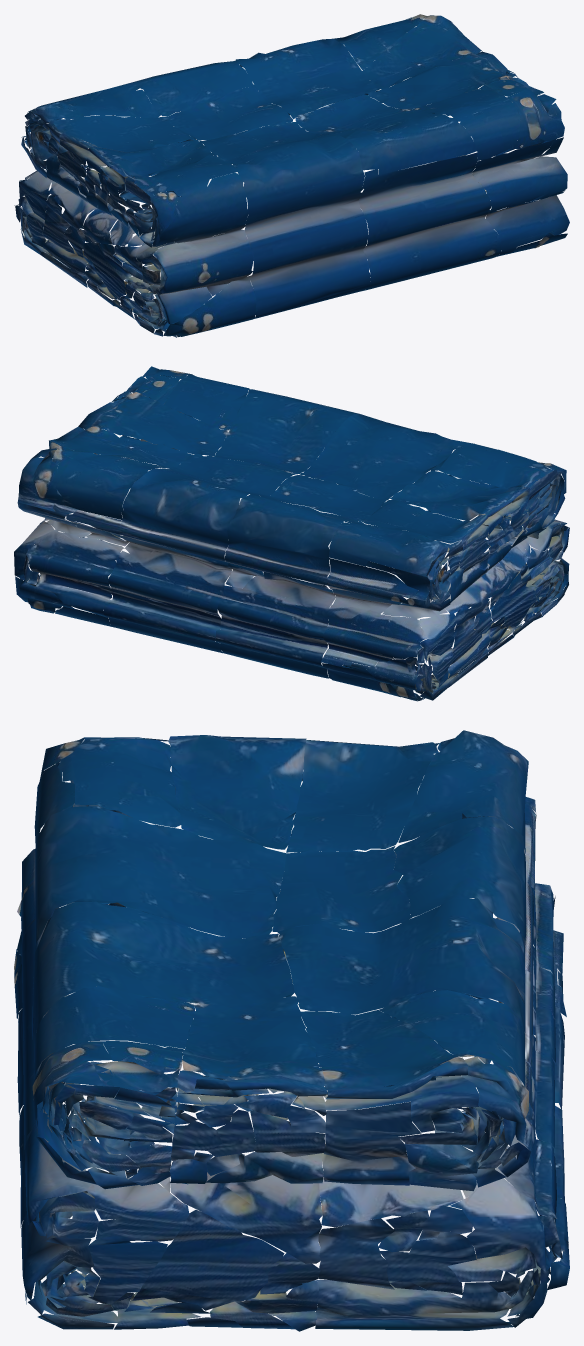
The model's file is tarp.glb.
The picture shows the model from 3 angles, top to bottom: view 1: azimuth 30°, elevation 25°; view 2: azimuth 150°, elevation 25°; view 3: azimuth 270°, elevation 25°; orthographic projection. The views are drawn at different scales.
Parts seen in each view (by area): view 1: tripo_node_728b56d6-7fc9-49f2-a562-e074abbdb82b; view 2: tripo_node_728b56d6-7fc9-49f2-a562-e074abbdb82b; view 3: tripo_node_728b56d6-7fc9-49f2-a562-e074abbdb82b.
Boxes of the visible parts, x1=… form: tripo_node_728b56d6-7fc9-49f2-a562-e074abbdb82b: x1=14, y1=14, x2=569, y2=337; tripo_node_728b56d6-7fc9-49f2-a562-e074abbdb82b: x1=14, y1=366, x2=569, y2=701; tripo_node_728b56d6-7fc9-49f2-a562-e074abbdb82b: x1=14, y1=730, x2=569, y2=1331.
Size of the model in its own units: 1 by 0.3572 by 0.6632.
1 material, 1 textured.
